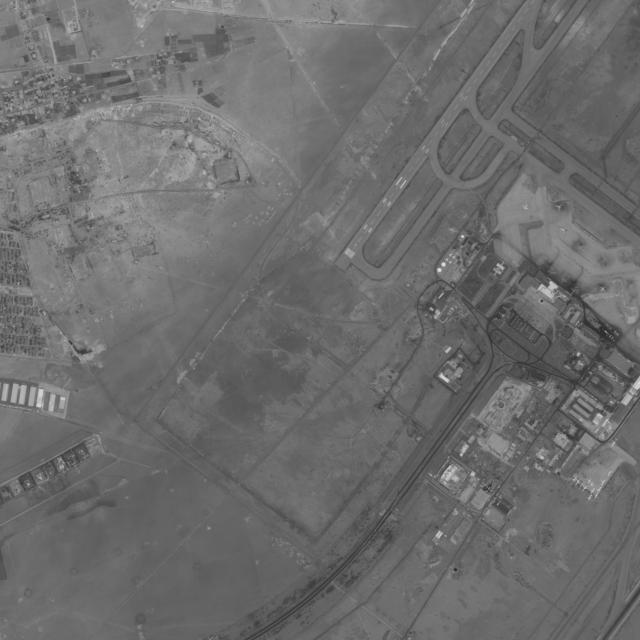plane: (582, 492, 595, 505), (592, 485, 605, 497), (579, 481, 591, 494), (608, 437, 620, 449), (568, 474, 580, 486), (575, 479, 587, 491), (589, 490, 602, 501), (573, 476, 584, 488), (598, 477, 609, 488), (587, 485, 597, 496), (554, 202, 565, 212), (605, 468, 615, 478), (521, 202, 531, 212), (558, 225, 569, 234), (599, 284, 608, 294), (585, 477, 594, 485), (588, 480, 596, 488)
storage-tank: (440, 261, 447, 268), (436, 267, 442, 273), (460, 234, 464, 239), (445, 258, 449, 262), (448, 260, 452, 263), (452, 255, 455, 259), (449, 253, 452, 257)
